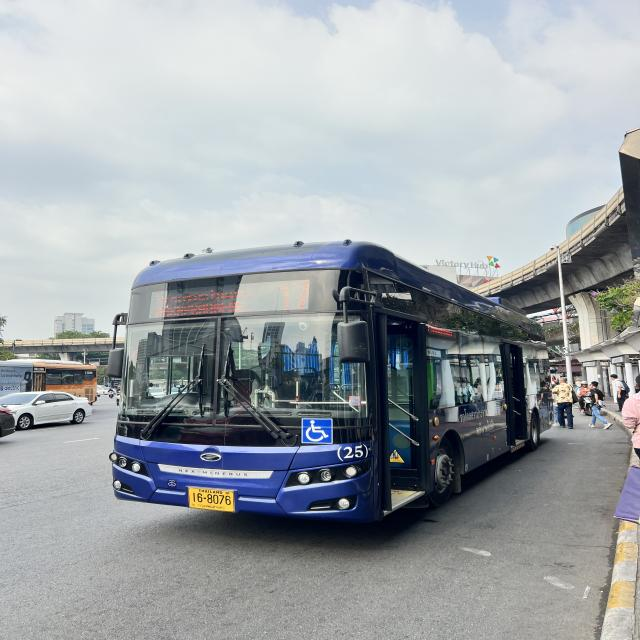Bus-Line-Number: (273, 277, 317, 314)
Destination-Sign-Normal: (148, 287, 256, 317)
TSB-Bus: (110, 242, 550, 528)
